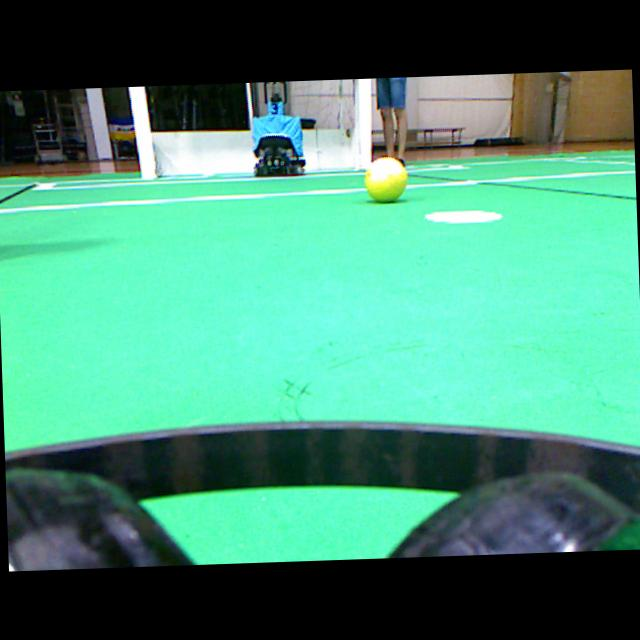ball: (364, 156, 406, 201)
goal: (128, 86, 155, 178), (354, 78, 371, 168)
